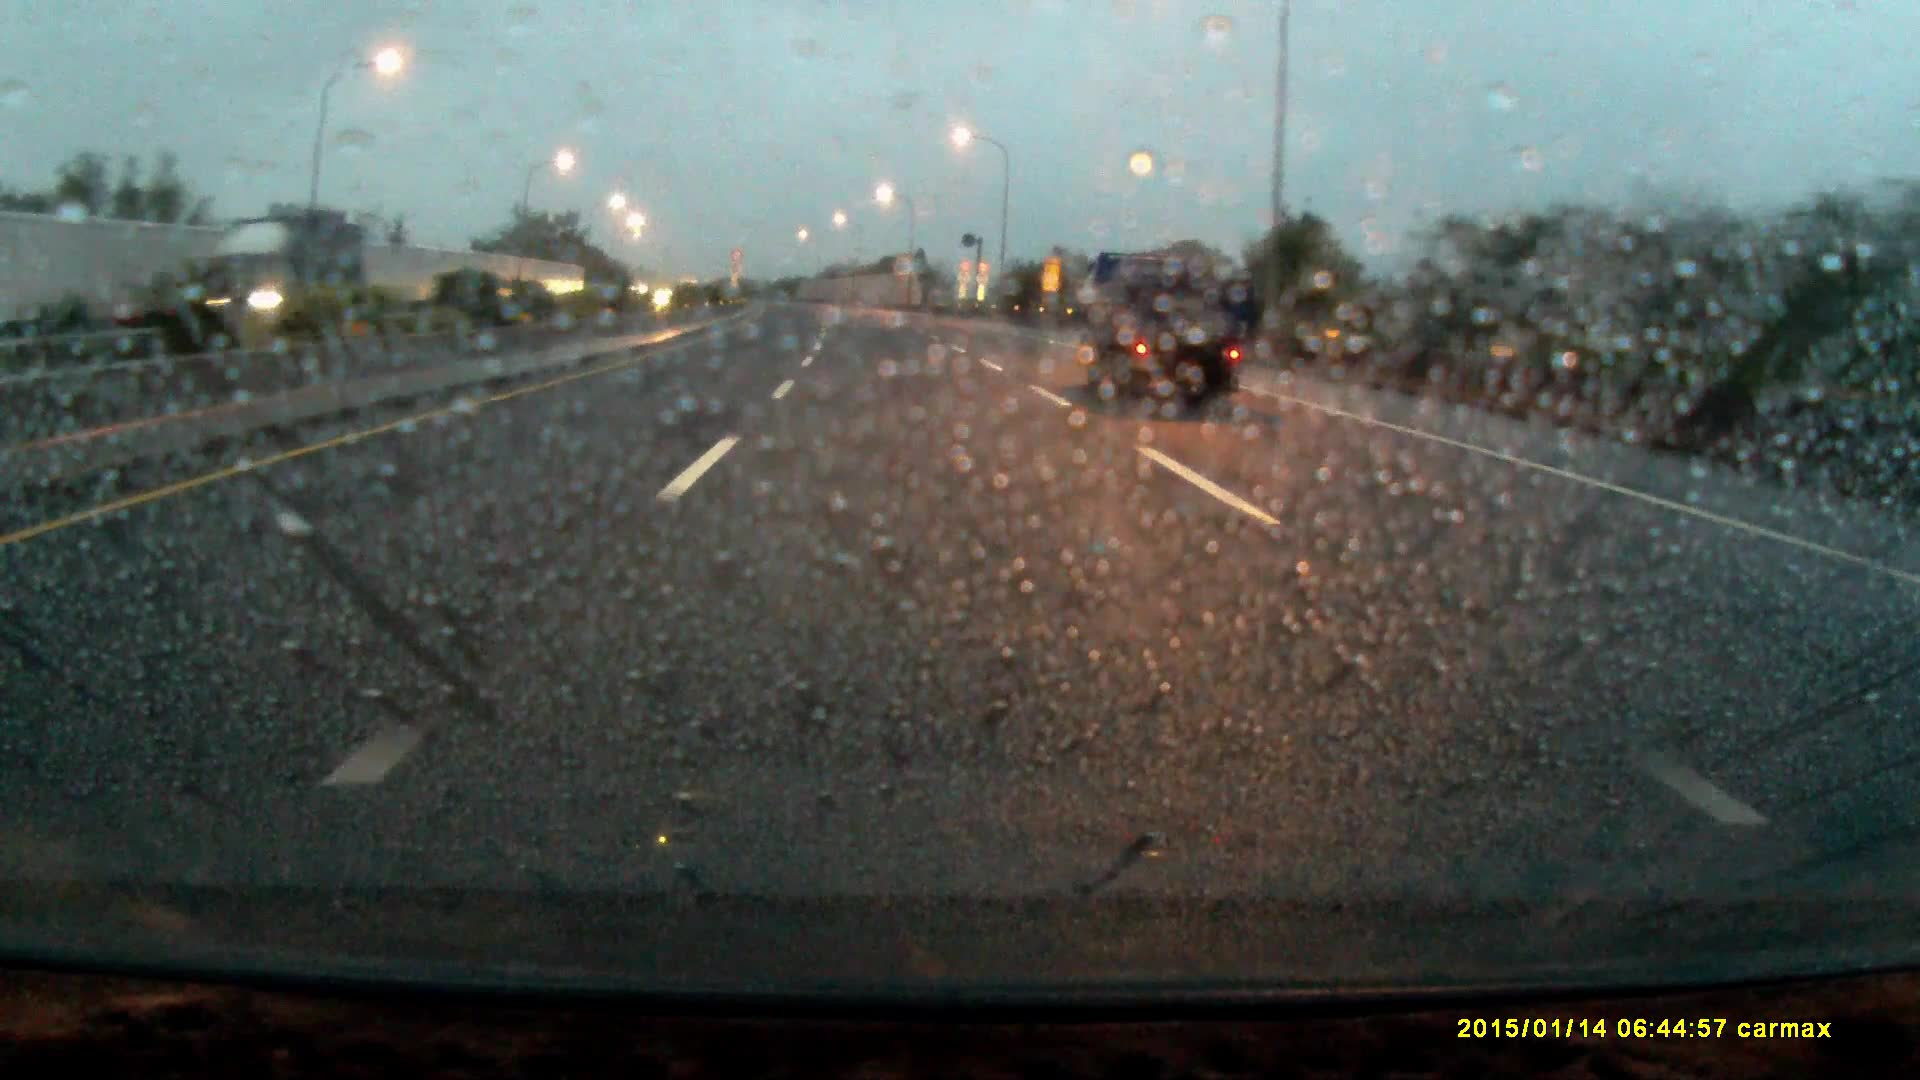vehicle: (1072, 248, 1238, 407), (199, 215, 352, 339)
